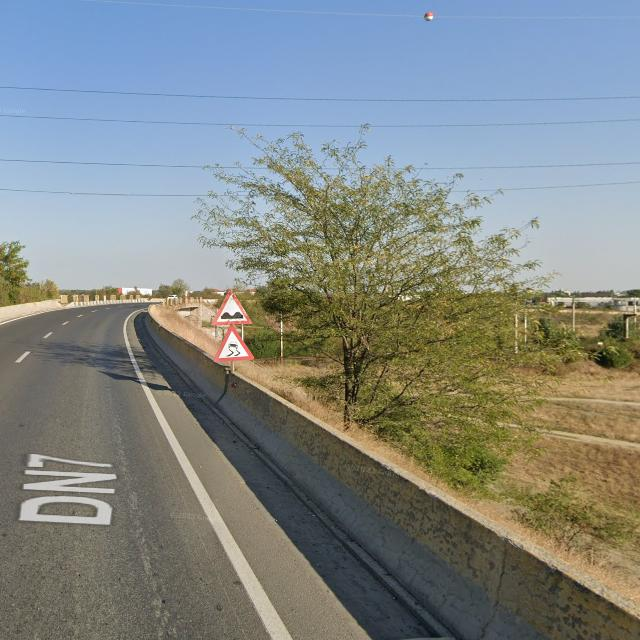warn_poor_road_surface: (212, 289, 252, 325)
warn_slippery_road: (214, 326, 254, 362)
